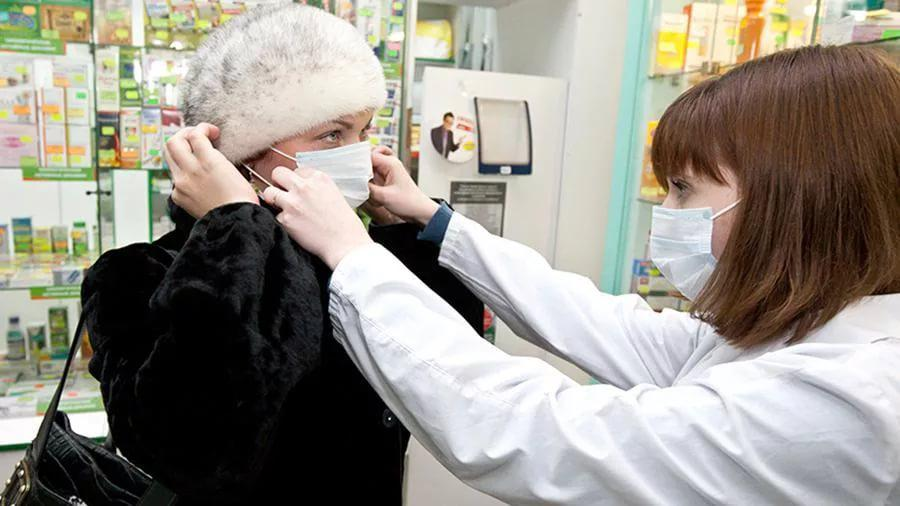mask: (632, 119, 746, 312), (262, 82, 378, 237)
